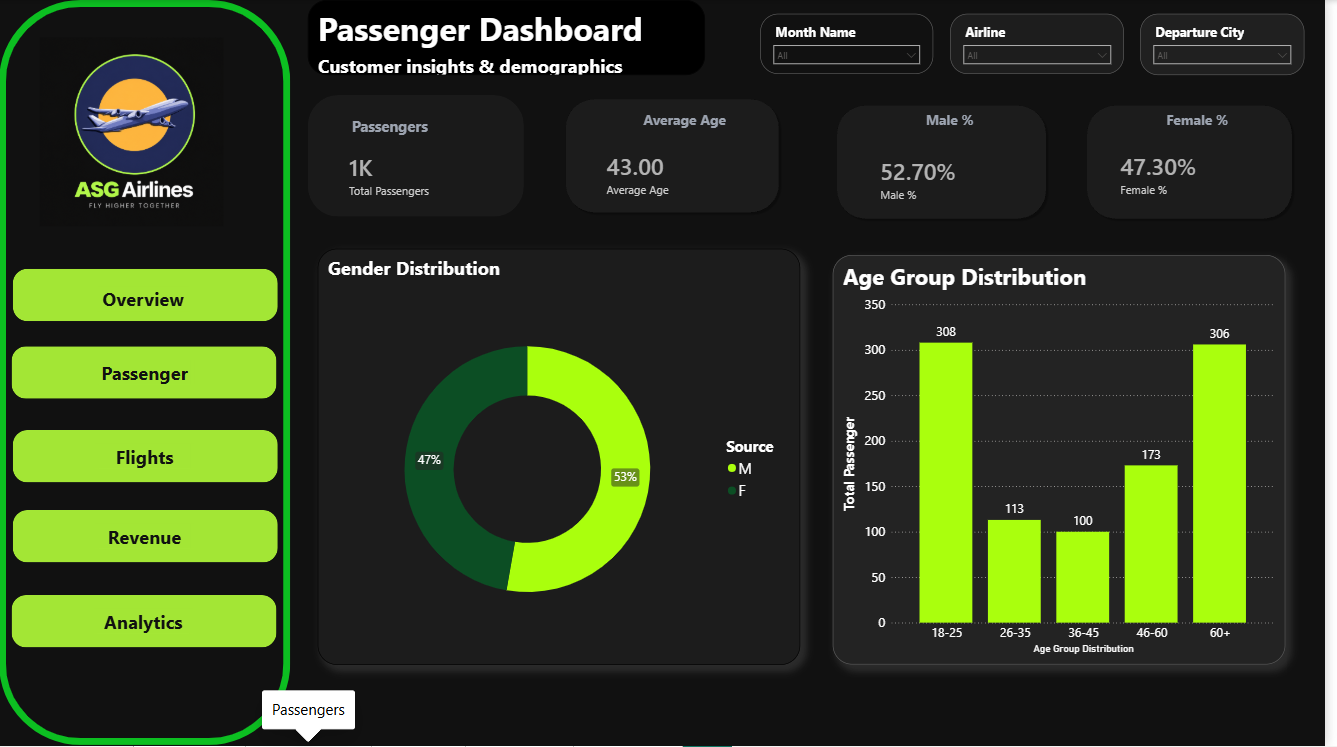

What the dashboard file says about the page in this screenshot:
{"tool":"powerbi","page":{"name":"Passengers","canvas":[1920,1080],"ordinal":1},"visuals":[{"type":"shape","box":[0,0,421.7,1078.6],"z":0},{"type":"textbox","title":"Passenger Dashboard","box":[447,0,575.5,108.6],"z":1000},{"type":"image","box":[30.8,54.3,322.1,273.3],"z":2000},{"type":"shape","box":[19.9,389.1,383.6,76],"z":3000},{"type":"textbox","title":"Overview","box":[137.5,414.4,143,36.2],"z":4000},{"type":"shape","box":[18.1,501.3,383.6,76],"z":5000},{"type":"shape","box":[19.9,622.5,383.6,76],"z":6000},{"type":"shape","box":[19.9,738.3,383.6,76],"z":7000},{"type":"shape","box":[18.1,861.4,383.6,76],"z":8000},{"type":"textbox","title":"Passengers","box":[139.3,521.2,143,36.2],"z":9000},{"type":"textbox","title":"Flights","box":[139.3,642.4,143,36.2],"z":10000},{"type":"textbox","title":"Analytics","box":[137.5,881.3,143,36.2],"z":11000},{"type":"textbox","title":"Revenue","box":[139.3,758.2,143,36.2],"z":12000},{"type":"shape","box":[447.8,136.7,313.1,176.3],"z":13000},{"type":"textbox","title":"Passengers","box":[477.8,168.3,175.5,38],"z":14000},{"type":"shape","box":[814.4,136.7,321,176.3],"z":15000},{"type":"shape","box":[1206.7,146.6,315,176.3],"z":16000},{"type":"textbox","title":"Average Age","box":[872.3,159.3,240.7,86.9],"z":17000},{"type":"textbox","box":[1022.5,389.1,224.4,86.9],"z":18000},{"type":"shape","box":[1569.3,146.6,309.1,176.3],"z":19000},{"type":"textbox","title":"Male %","box":[1255.9,159.3,240.7,86.9],"z":20000},{"type":"textbox","title":"Female %","box":[1614.2,159.3,240.7,86.9],"z":21000},{"type":"cardVisual","fields":{"Data":["passengers.Total Passengers"]},"box":[477.5,190.2,283.3,114.9],"z":22000},{"type":"cardVisual","fields":{"Data":["passengers.Average Age"]},"box":[850,188.2,283.3,114.9],"z":23000},{"type":"donutChart","title":"Gender Distribution","fields":{"Category":["passengers.gender"],"Y":["passengers.Total Passengers"]},"box":[461.5,360.1,698.5,602.6],"z":24000},{"type":"clusteredColumnChart","title":"Age Group Distribution","fields":{"Category":["passengers.Age Group"],"Y":["passengers.Total Passengers"]},"box":[1207.1,369.6,655.4,592.9],"z":25000},{"type":"cardVisual","fields":{"Data":["passengers.Male %"]},"box":[1246.4,194.6,275,110.7],"z":26000},{"type":"cardVisual","fields":{"Data":["passengers.Female %"]},"box":[1594.3,188.2,284.1,114],"z":27000},{"type":"slicer","fields":{"Values":["bookings.Month Name"]},"box":[1101.6,20.3,250,87.5],"z":28000},{"type":"slicer","fields":{"Values":["flights.airline"]},"box":[1376.6,20.3,251.6,87.5],"z":29000},{"type":"slicer","fields":{"Values":["flights.source"]},"box":[1653.1,20.3,237.5,89.1],"z":30000}]}

Visuals, with their boxes in screenshot pixels (x1, y1, x2, y2), scaled from the page's 1920x1080 canvas onto the 1337x747 screenshot:
shape: <bbox>0, 0, 294, 746</bbox>
"Passenger Dashboard" textbox: <bbox>311, 0, 712, 75</bbox>
image: <bbox>21, 38, 246, 227</bbox>
shape: <bbox>14, 269, 281, 322</bbox>
"Overview" textbox: <bbox>96, 287, 195, 312</bbox>
shape: <bbox>13, 347, 280, 399</bbox>
shape: <bbox>14, 431, 281, 483</bbox>
shape: <bbox>14, 511, 281, 563</bbox>
shape: <bbox>13, 596, 280, 648</bbox>
"Passengers" textbox: <bbox>97, 360, 197, 386</bbox>
"Flights" textbox: <bbox>97, 444, 197, 469</bbox>
"Analytics" textbox: <bbox>96, 610, 195, 635</bbox>
"Revenue" textbox: <bbox>97, 524, 197, 549</bbox>
shape: <bbox>312, 95, 530, 216</bbox>
"Passengers" textbox: <bbox>333, 116, 455, 143</bbox>
shape: <bbox>567, 95, 791, 216</bbox>
shape: <bbox>840, 101, 1060, 223</bbox>
"Average Age" textbox: <bbox>607, 110, 775, 170</bbox>
textbox: <bbox>712, 269, 868, 329</bbox>
shape: <bbox>1093, 101, 1308, 223</bbox>
"Male %" textbox: <bbox>875, 110, 1042, 170</bbox>
"Female %" textbox: <bbox>1124, 110, 1292, 170</bbox>
cardVisual - passengers.Total Passengers: <bbox>333, 132, 530, 211</bbox>
cardVisual - passengers.Average Age: <bbox>592, 130, 789, 210</bbox>
"Gender Distribution" donutChart: <bbox>321, 249, 808, 666</bbox>
"Age Group Distribution" clusteredColumnChart: <bbox>841, 256, 1297, 666</bbox>
cardVisual - passengers.Male %: <bbox>868, 135, 1059, 211</bbox>
cardVisual - passengers.Female %: <bbox>1110, 130, 1308, 209</bbox>
slicer - bookings.Month Name: <bbox>767, 14, 941, 75</bbox>
slicer - flights.airline: <bbox>959, 14, 1134, 75</bbox>
slicer - flights.source: <bbox>1151, 14, 1317, 76</bbox>
